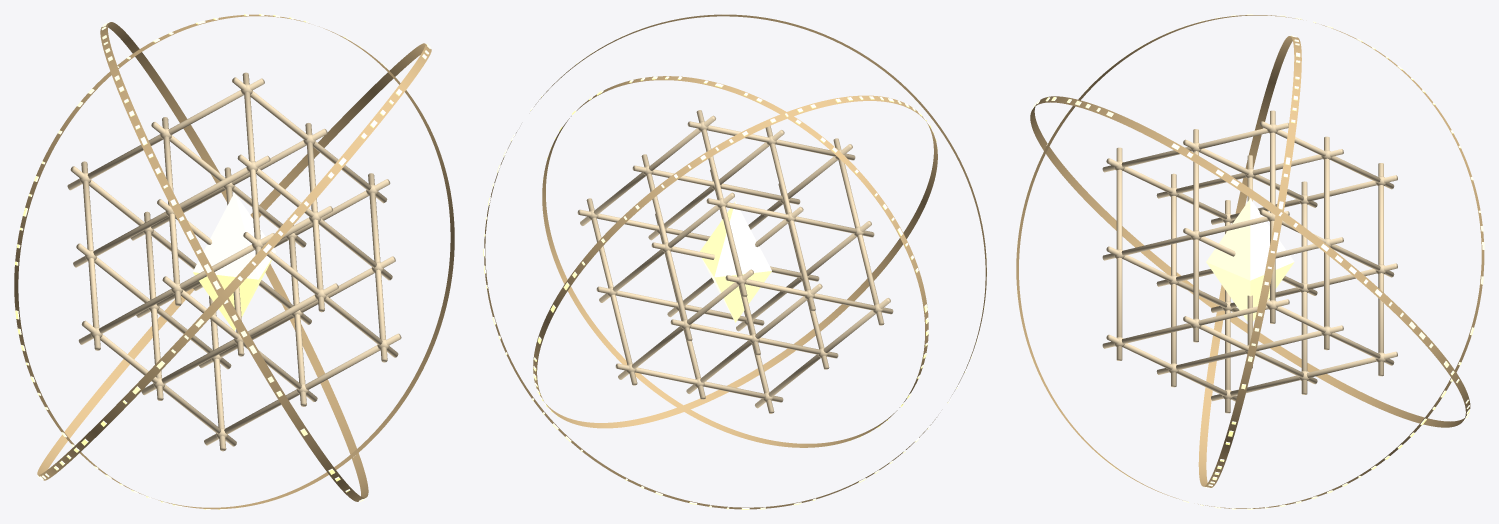
The model's file is god_ledger.glb.
3 renders of one model, left to right at view 1: azimuth 30°, elevation 25°; view 2: azimuth 150°, elevation 25°; view 3: azimuth 270°, elevation 25°, orthographic. The views are drawn at different scales.
Parts seen in each view (by area): view 1: Ledger, LedgerRings, LedgerCore, LedgerGlyphs; view 2: Ledger, LedgerRings, LedgerCore, LedgerGlyphs; view 3: Ledger, LedgerRings, LedgerCore, LedgerGlyphs.
Part boxes in pixels (bbox=[...]): Ledger: bbox=[67, 72, 401, 451]; LedgerRings: bbox=[14, 14, 454, 509]; LedgerCore: bbox=[193, 192, 275, 330]; LedgerGlyphs: bbox=[15, 14, 450, 509]; Ledger: bbox=[577, 110, 893, 413]; LedgerRings: bbox=[484, 14, 986, 509]; LedgerCore: bbox=[700, 201, 771, 322]; LedgerGlyphs: bbox=[483, 14, 987, 509]; Ledger: bbox=[1102, 110, 1397, 413]; LedgerRings: bbox=[1016, 15, 1484, 508]; LedgerCore: bbox=[1206, 198, 1294, 321]; LedgerGlyphs: bbox=[1017, 14, 1484, 509].
Size of the model in its own units: 1.77 by 1.73 by 1.8.
